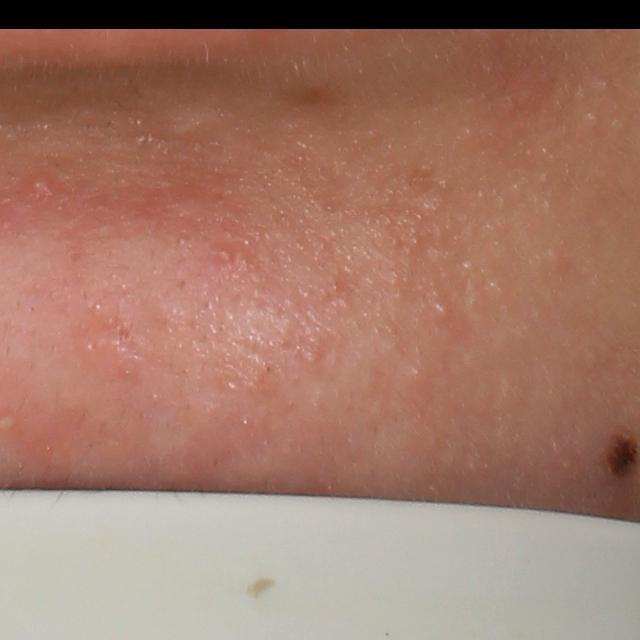comedo: (433, 303, 452, 323)
hypertrophic_scar: (164, 109, 218, 144)
pustule: (28, 173, 57, 204), (212, 241, 235, 269)
